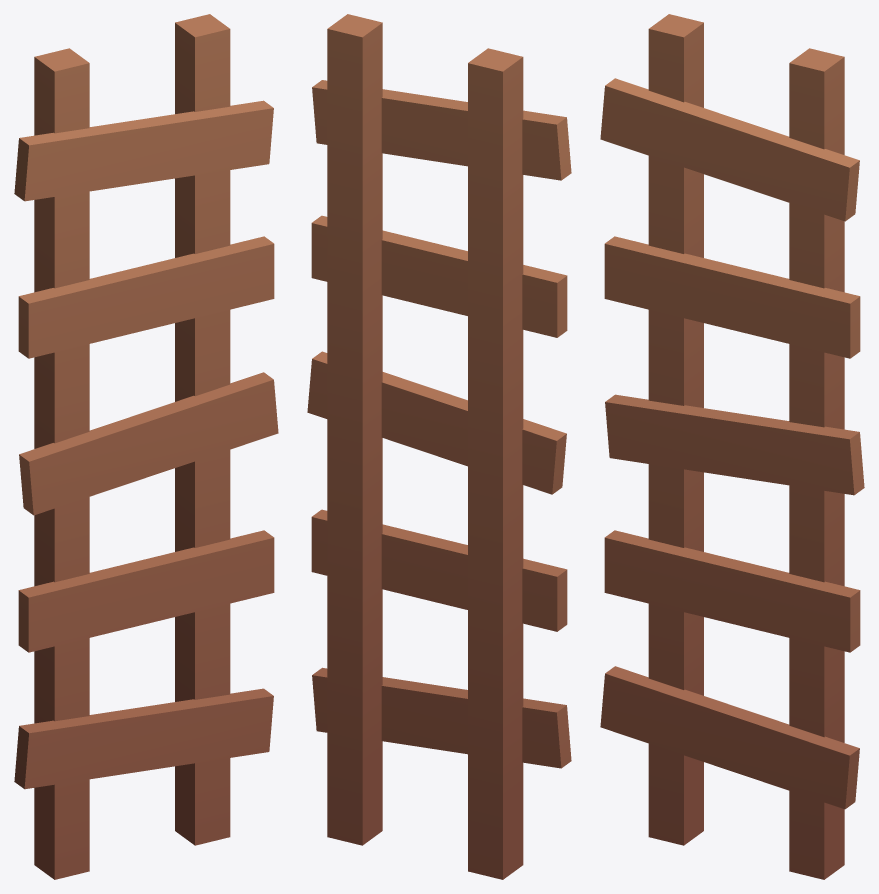
The model's file is ladder.glb.
The picture shows the model from 3 angles, left to right: view 1: azimuth 30°, elevation 25°; view 2: azimuth 150°, elevation 25°; view 3: azimuth 330°, elevation 25°; orthographic projection.
Visible parts, largest first — view 1: ladder; view 2: ladder; view 3: ladder.
Boxes of the visible parts, <box> form: ladder: <box>14,14,278,879</box>; ladder: <box>307,14,571,879</box>; ladder: <box>600,14,864,879</box>.
Size of the model in its own units: 0.2532 by 0.77 by 0.0507.
1 material, 1 textured.
